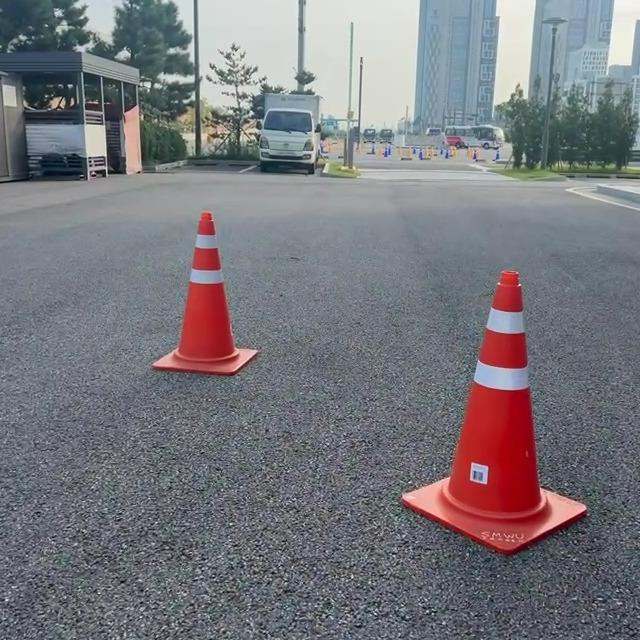fallen_object: (363, 249, 626, 605), (112, 187, 258, 407)
